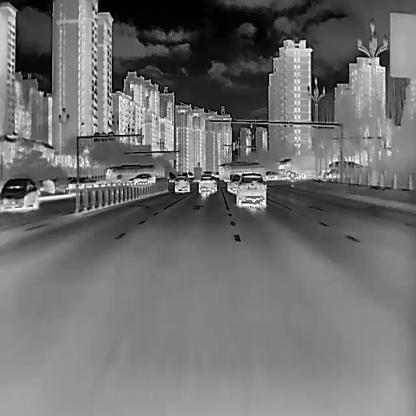bus: (216, 160, 266, 185), (102, 163, 155, 186)
car: (0, 175, 40, 209), (233, 172, 266, 208), (127, 172, 153, 186), (172, 174, 190, 192), (198, 173, 215, 192), (251, 164, 265, 183), (229, 174, 240, 195), (266, 170, 278, 180)
truck: (277, 154, 316, 180)
